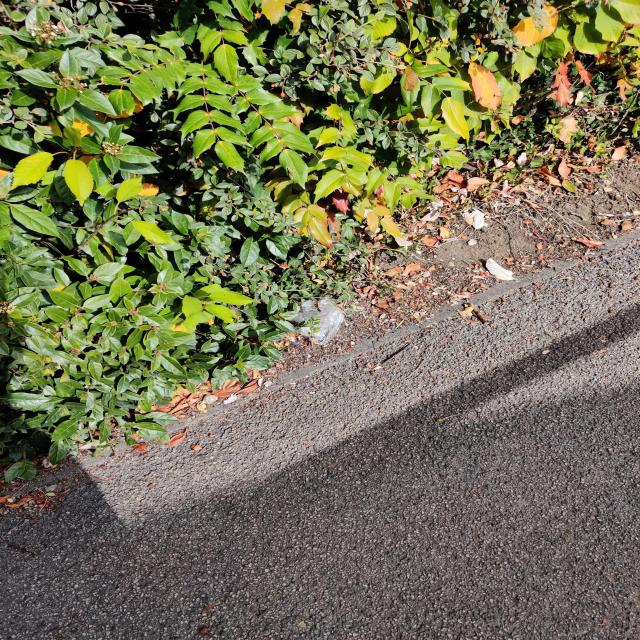litter: (287, 299, 344, 345)
